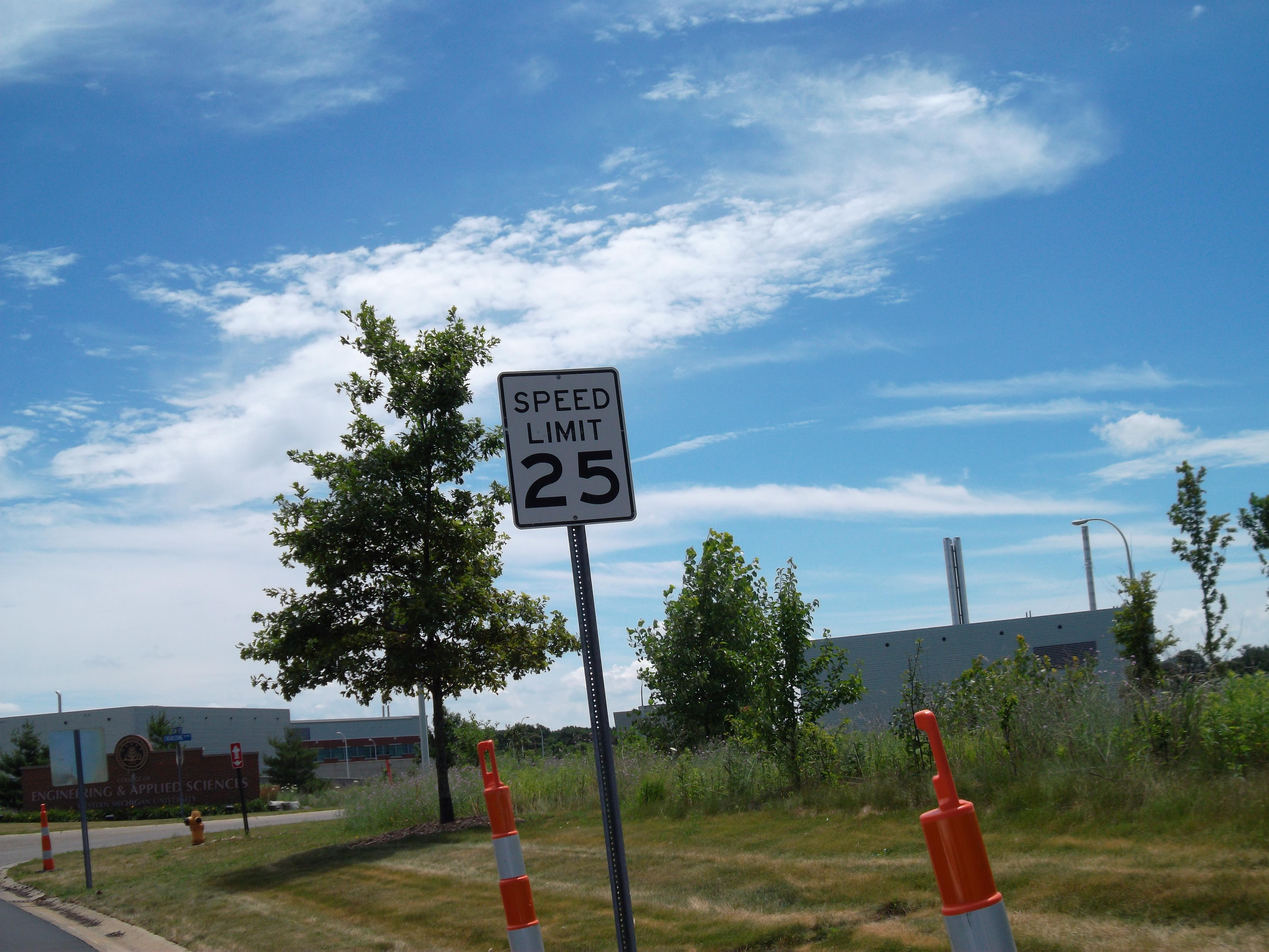Speed Limit 25mph: (507, 387, 613, 519)
